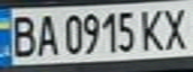0: (60, 10, 81, 55)
1: (100, 9, 121, 53)
5: (115, 8, 139, 53)
9: (81, 10, 103, 55)
A: (33, 11, 60, 57)
B: (3, 11, 39, 58)
K: (136, 6, 166, 52)
X: (160, 3, 193, 52)
